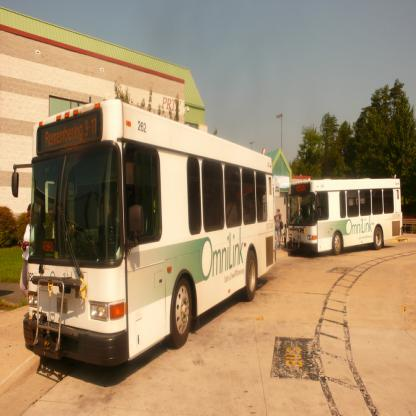Bus: (11, 100, 277, 369), (284, 176, 404, 258)
